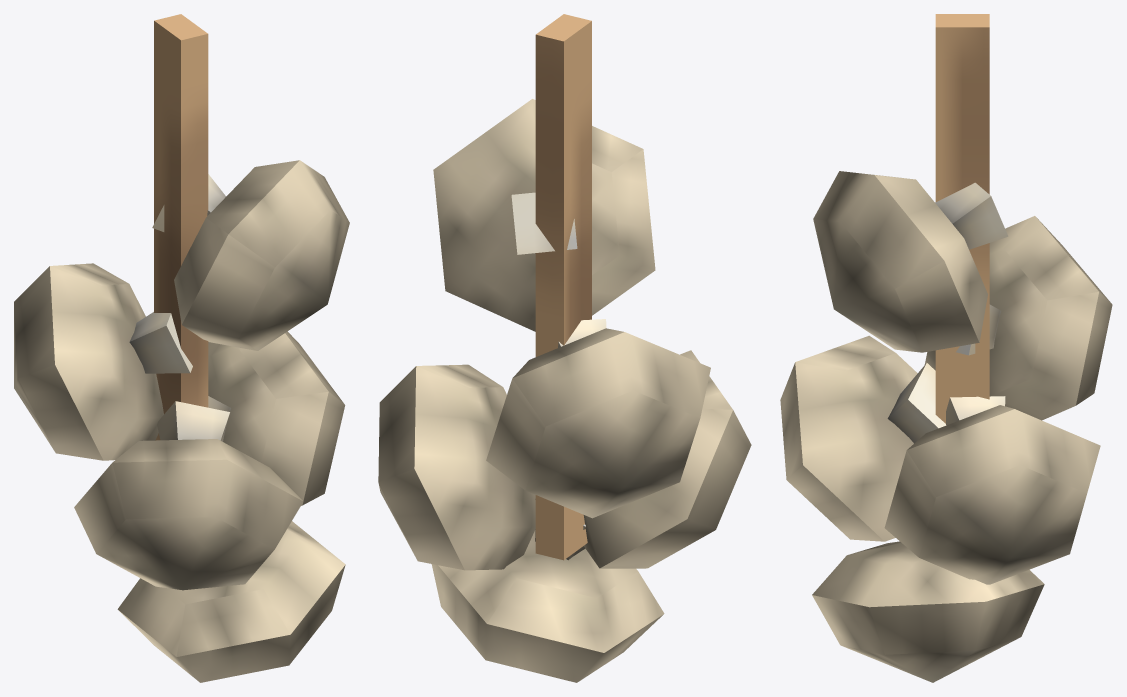
Rendered from Primera_Slums_Props _Garlic.fbx.
3 renders of one model, left to right at view 1: azimuth 30°, elevation 25°; view 2: azimuth 150°, elevation 25°; view 3: azimuth 270°, elevation 25°, orthographic. The views are drawn at different scales.
Parts seen in each view (by area): view 1: Primera_Slums_Props _Garlic; view 2: Primera_Slums_Props _Garlic; view 3: Primera_Slums_Props _Garlic.
Boxes of the visible parts, <box> form: Primera_Slums_Props _Garlic: <box>14,14,349,682</box>; Primera_Slums_Props _Garlic: <box>378,14,751,682</box>; Primera_Slums_Props _Garlic: <box>780,14,1112,682</box>.
Bounding box in the file's own units: 116 × 237 × 112.
1 material, 1 textured.
